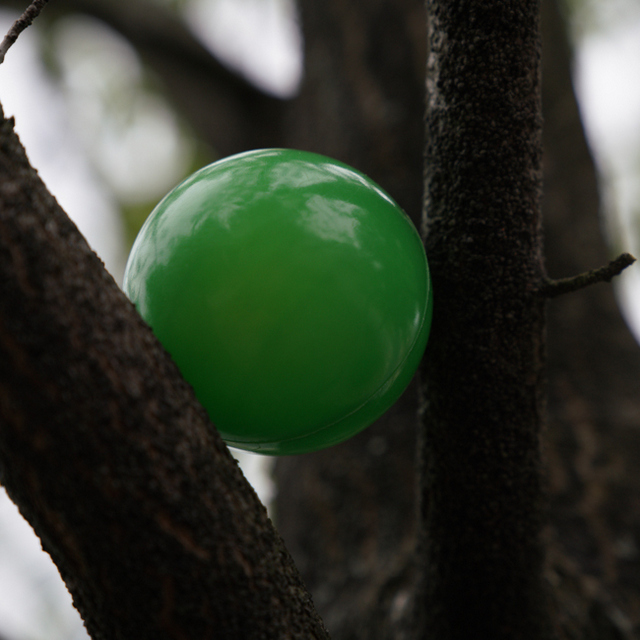Ball: (122, 154, 437, 456)
